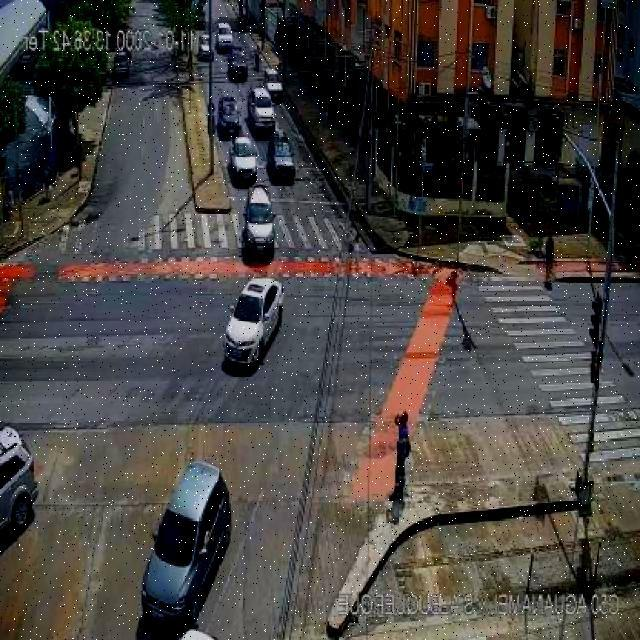Car: (140, 457, 234, 635), (224, 274, 286, 368), (1, 423, 39, 549), (239, 185, 278, 262), (266, 130, 296, 183), (228, 135, 259, 184), (247, 87, 275, 135), (217, 96, 240, 136), (264, 70, 284, 102), (112, 50, 132, 80), (228, 51, 248, 81), (216, 22, 234, 51), (197, 34, 213, 61)
